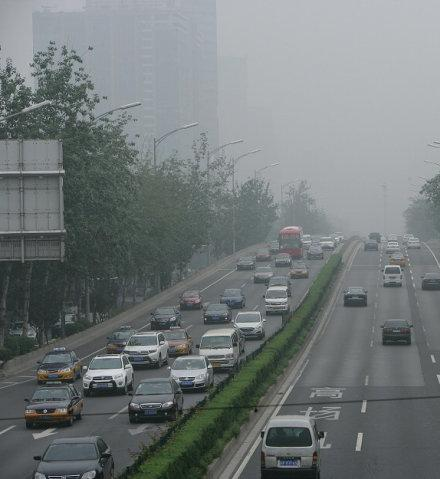bus: (276, 225, 304, 259)
car: (257, 415, 324, 477), (31, 436, 115, 479), (23, 380, 82, 427), (128, 377, 184, 426), (81, 352, 135, 395), (121, 331, 171, 370), (194, 329, 241, 370), (35, 346, 83, 383), (166, 356, 214, 393), (229, 311, 267, 341), (105, 326, 138, 356), (379, 318, 413, 346), (162, 326, 193, 356), (51, 313, 84, 339), (261, 286, 290, 315), (150, 306, 182, 331), (201, 303, 233, 326), (265, 276, 292, 300), (219, 287, 247, 309), (178, 288, 204, 310), (8, 321, 36, 341), (380, 264, 404, 287), (342, 285, 368, 306), (289, 260, 310, 281), (253, 266, 275, 284), (387, 251, 408, 269), (419, 272, 439, 289), (235, 256, 257, 271), (295, 233, 313, 250), (253, 248, 273, 262), (306, 245, 324, 260), (274, 253, 293, 267), (405, 235, 421, 250), (318, 236, 335, 250), (385, 241, 400, 256), (363, 239, 378, 252), (367, 232, 384, 243), (402, 234, 416, 246)
